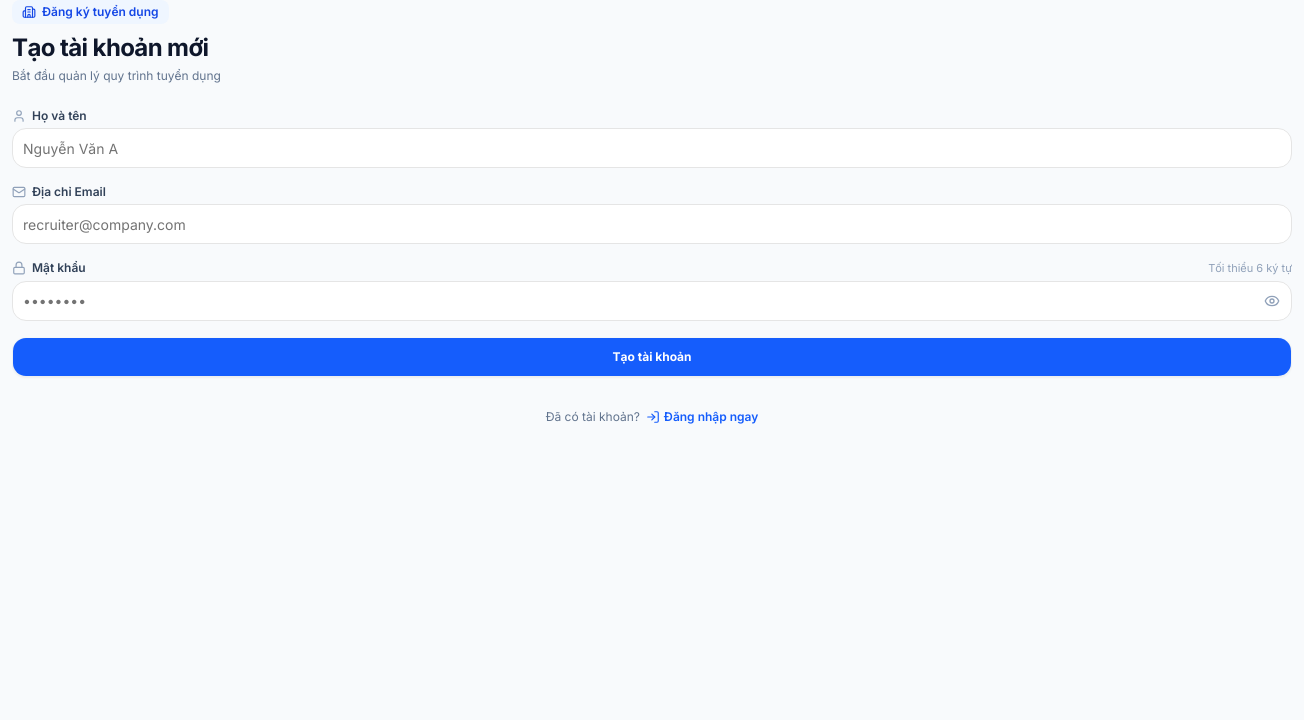
it: RegisterPage Component Tests › shows error when password is less than 6 characters
In the field with placeholder "Nguyễn Văn A": {"x": 652, "y": 148} top-left (12, 128), bottom-right (1292, 168), type "Nguyễn HR"
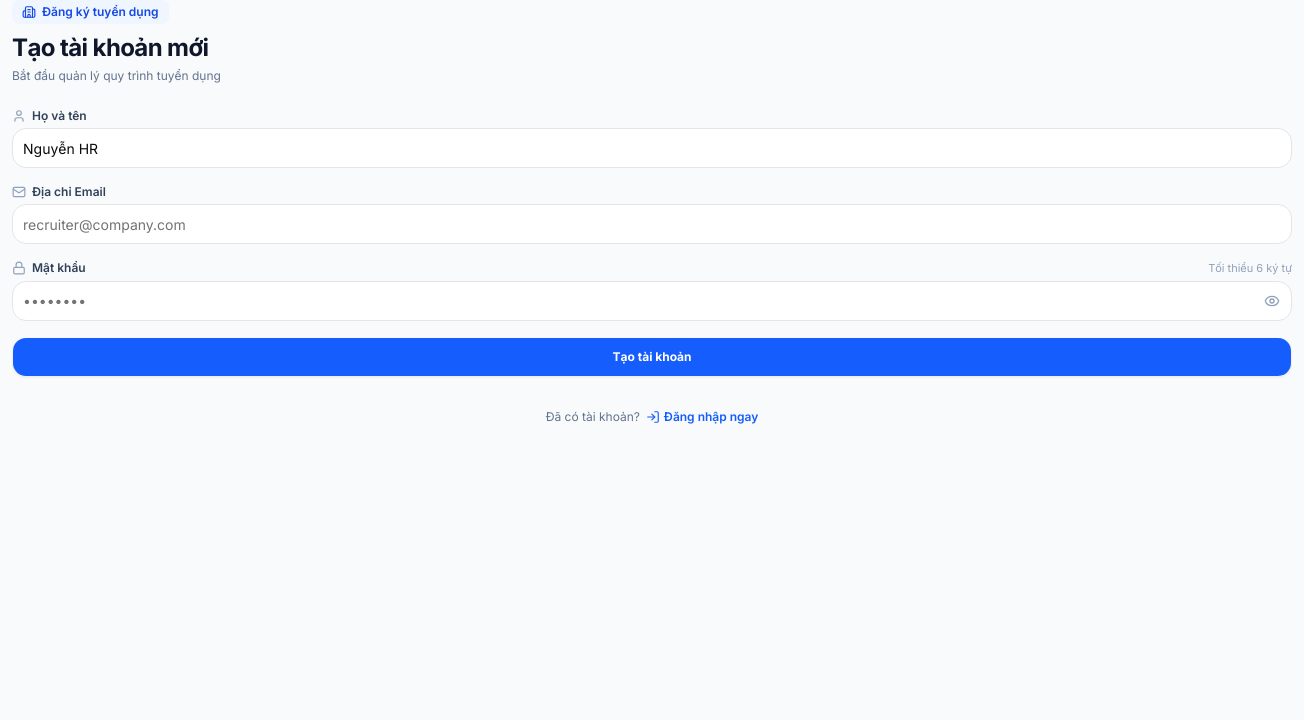
In the field with placeholder "recruiter@company.com": {"x": 652, "y": 224} top-left (12, 204), bottom-right (1292, 244), type "hr@company.com"
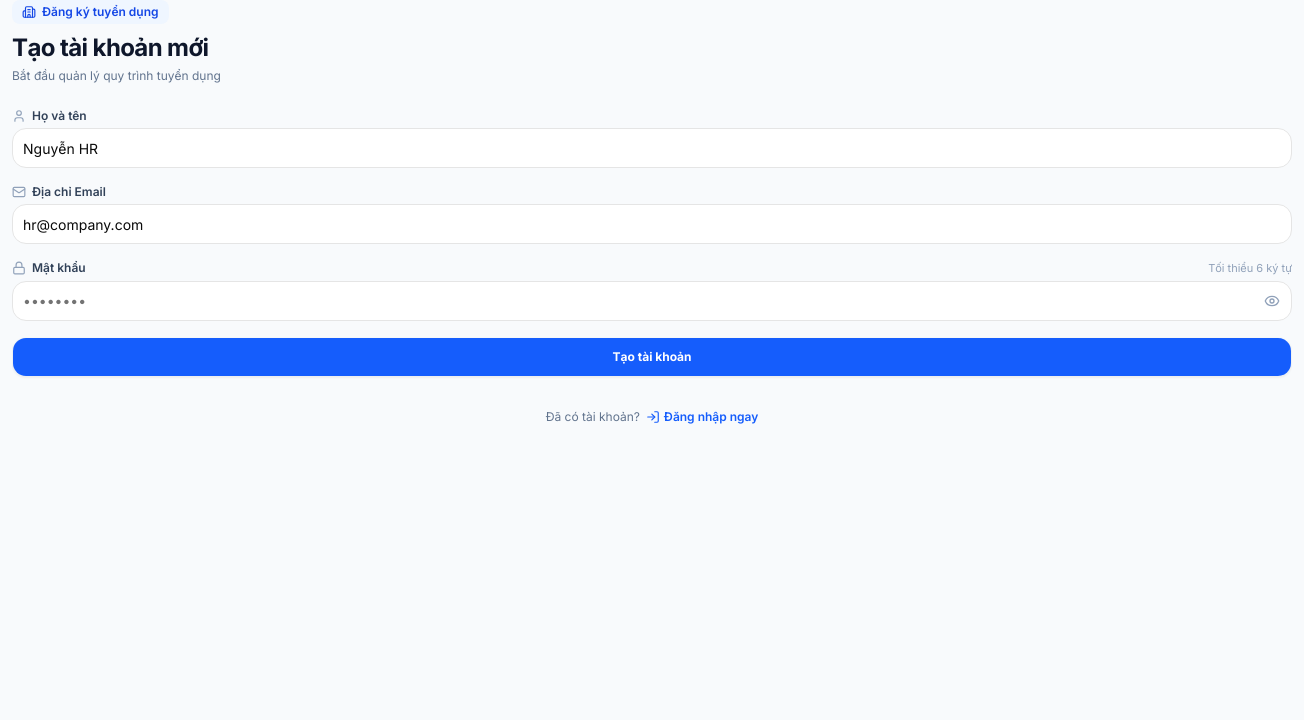
In the password field with placeholder "••••••••": {"x": 652, "y": 300} top-left (12, 280), bottom-right (1292, 320), type "12345"
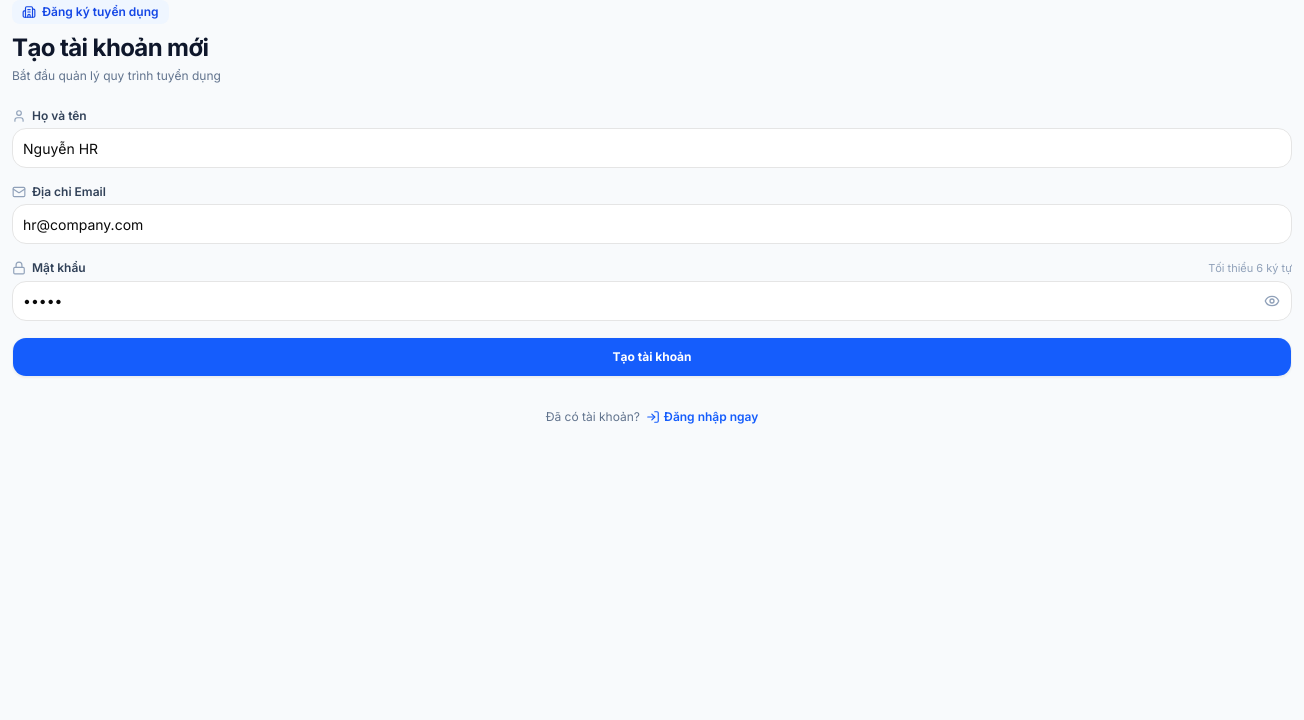
Click the button "Tạo tài khoản": {"x": 652, "y": 356} top-left (12, 336), bottom-right (1292, 376)
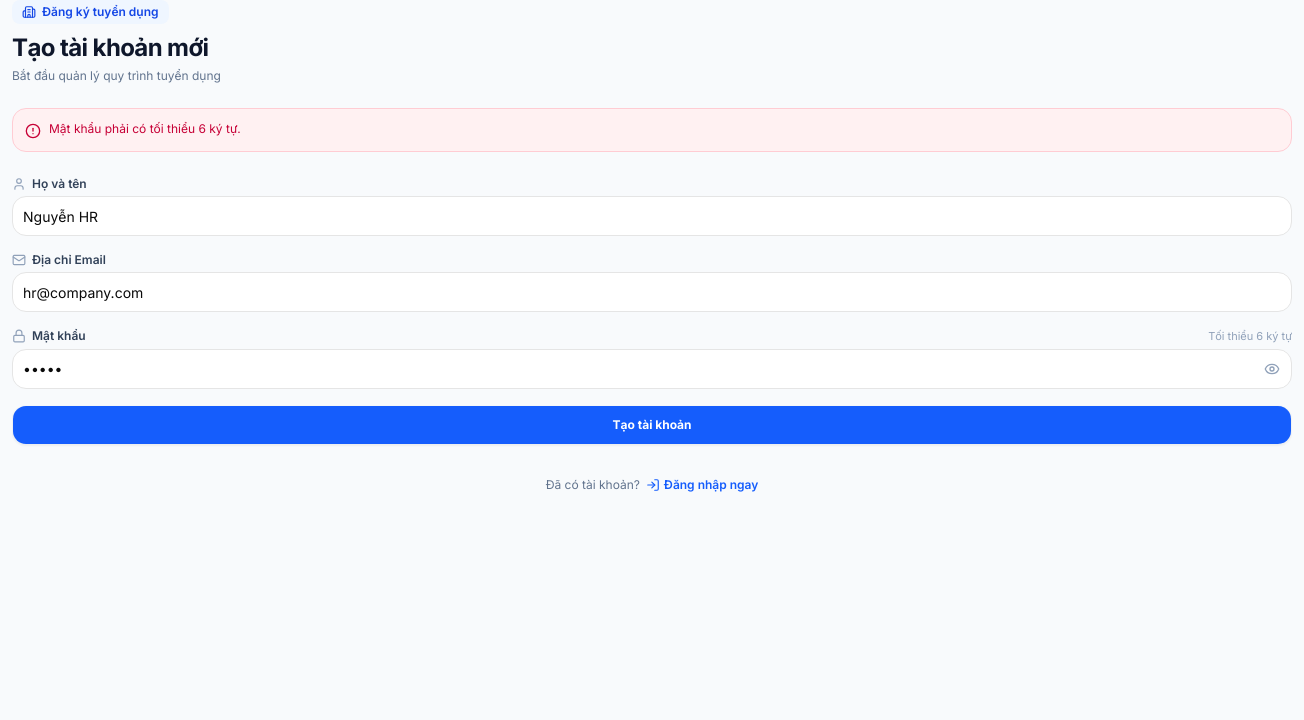
expect the text "Mật khẩu phải có tối thiểu 6 ký tự." is shown: met, box top-left (49, 121), bottom-right (241, 137)
